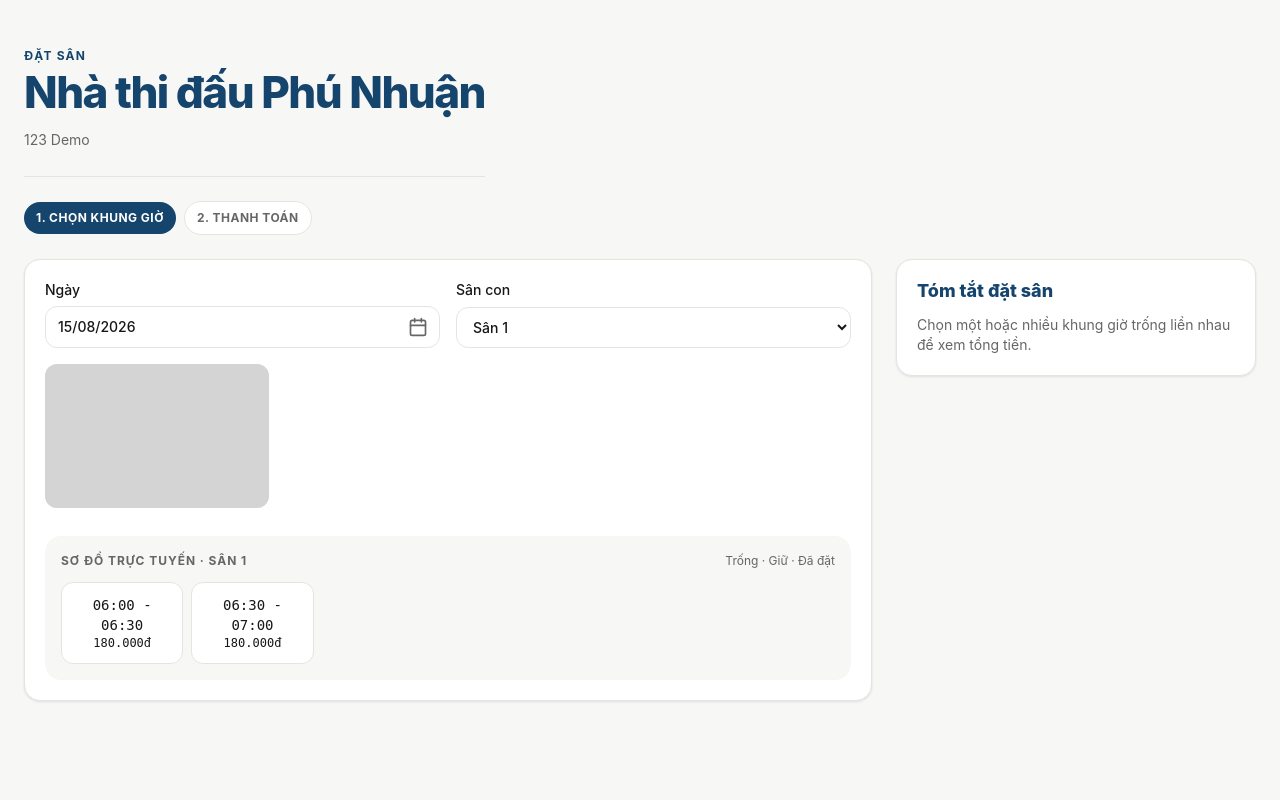
Test case: uses dd/MM/yyyy and wires contiguous selections into the visible summary
Expected: the field named "ngày đặt sân" holds "15/08/2026", top-left (45, 306), bottom-right (440, 348)
Click the button named "Chọn 06:00 - 06:30" at (122, 623), box top-left (61, 582), bottom-right (183, 664)
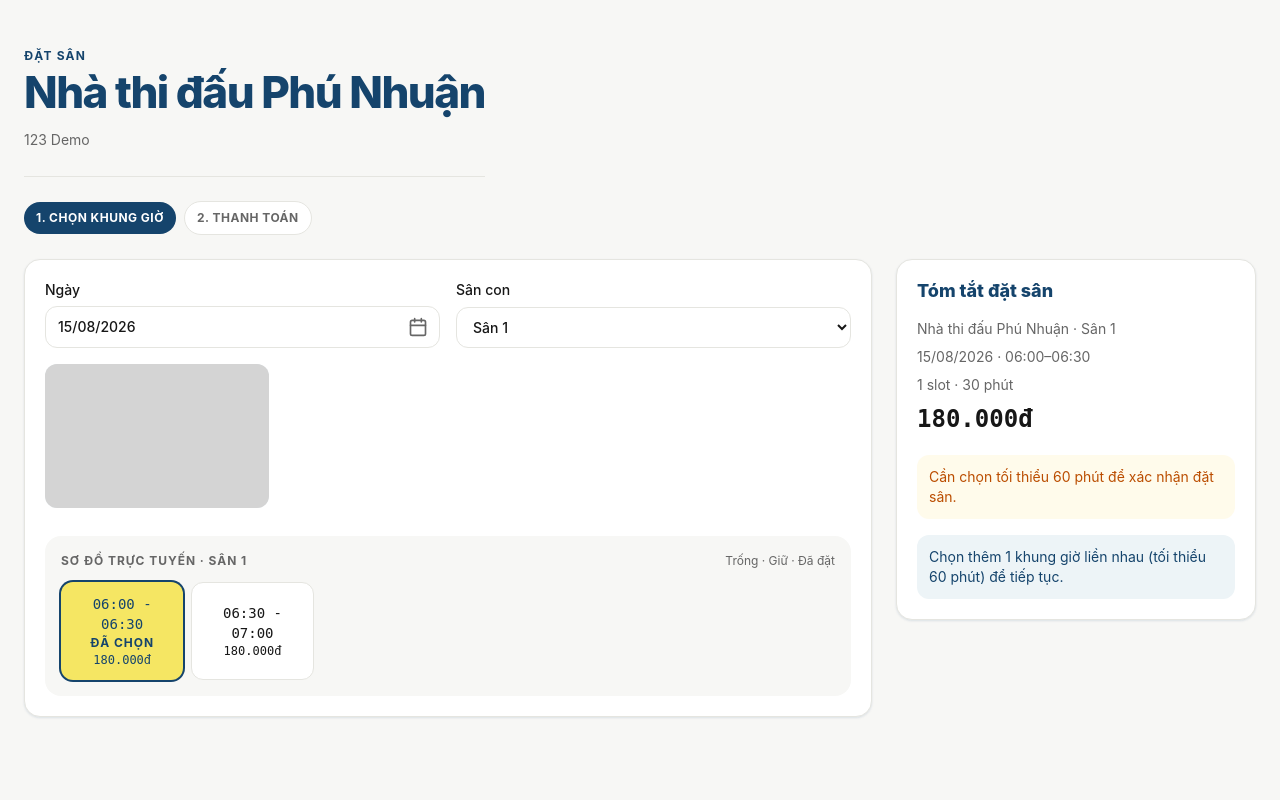
Now the text "Chọn thêm 1 khung giờ liền nhau (tối thiểu 60 phút) để tiếp tục." is shown, box top-left (917, 535), bottom-right (1235, 599)
Click the button named "Chọn 06:30 - 07:00" at (252, 631), box top-left (191, 582), bottom-right (314, 680)
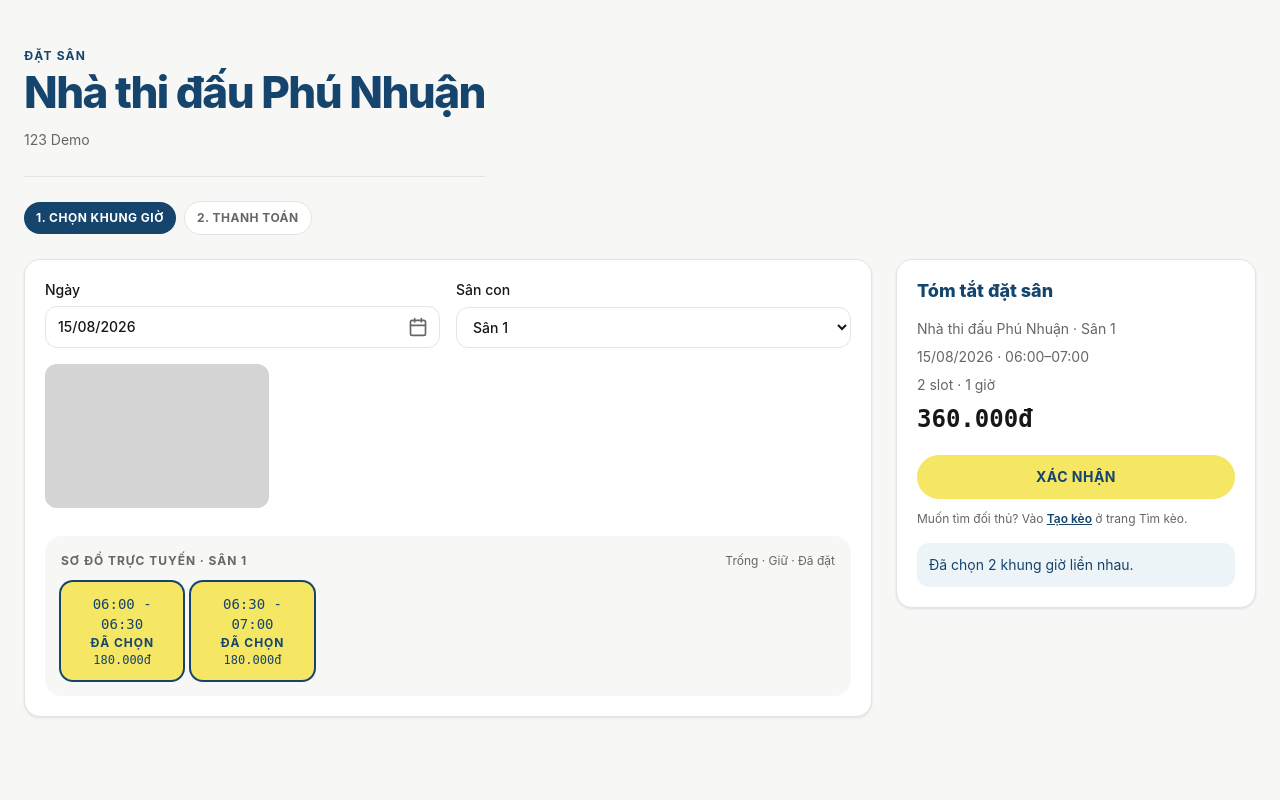
Now the text "2 slot · 1 giờ" is shown, box top-left (917, 376), bottom-right (995, 393)
